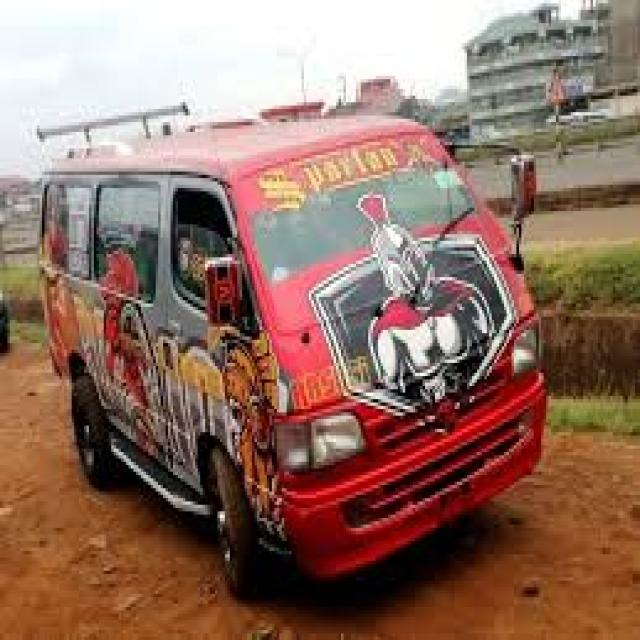matatu: (26, 49, 590, 618)
